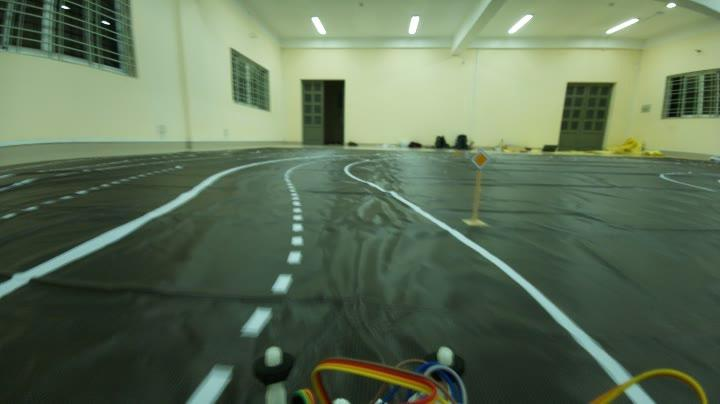priority: (469, 143, 493, 176)
